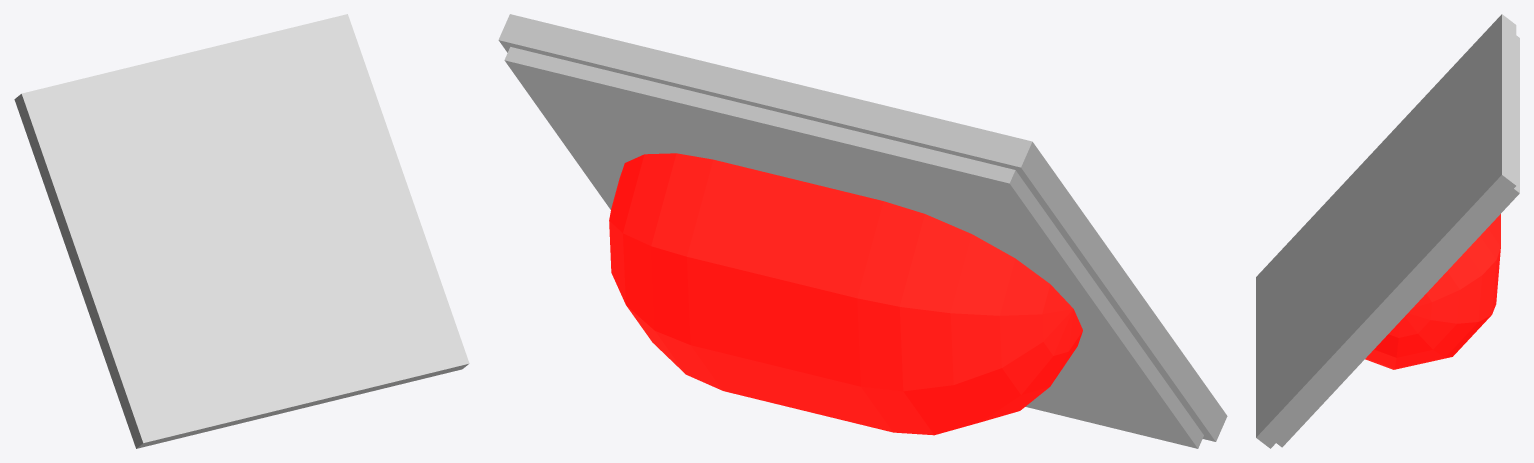
Rendered from mod-light-red.fbx.
3 views of the same model, side by side, from view 1: azimuth 30°, elevation 25°; view 2: azimuth 150°, elevation 25°; view 3: azimuth 270°, elevation 25° (orthographic). The views are drawn at different scales.
Parts seen in each view (by area): view 1: light_panel-red; view 2: light_panel-red; view 3: light_panel-red.
Part boxes in pixels (left/top/right/bottom): light_panel-red: left=14, top=14, right=469, bottom=448; light_panel-red: left=498, top=14, right=1227, bottom=448; light_panel-red: left=1256, top=14, right=1519, bottom=448.
Size of the model in its own units: 20 by 15.99 by 13.87.
